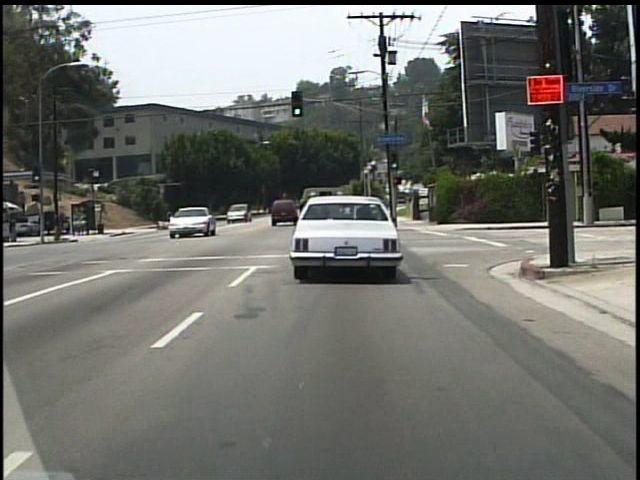person: (167, 209, 175, 230)
